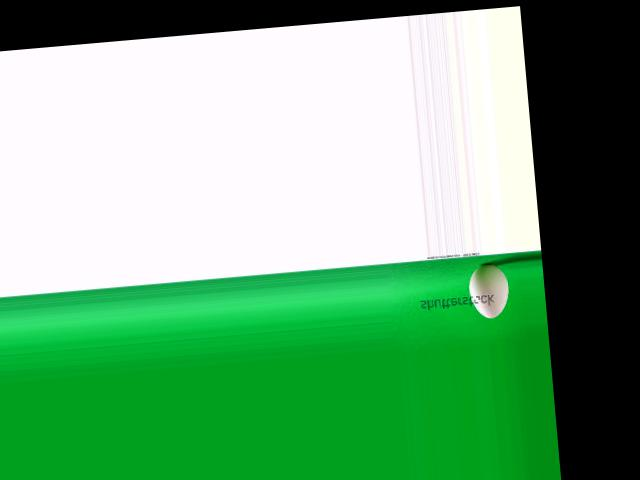egg: (467, 261, 511, 319)
